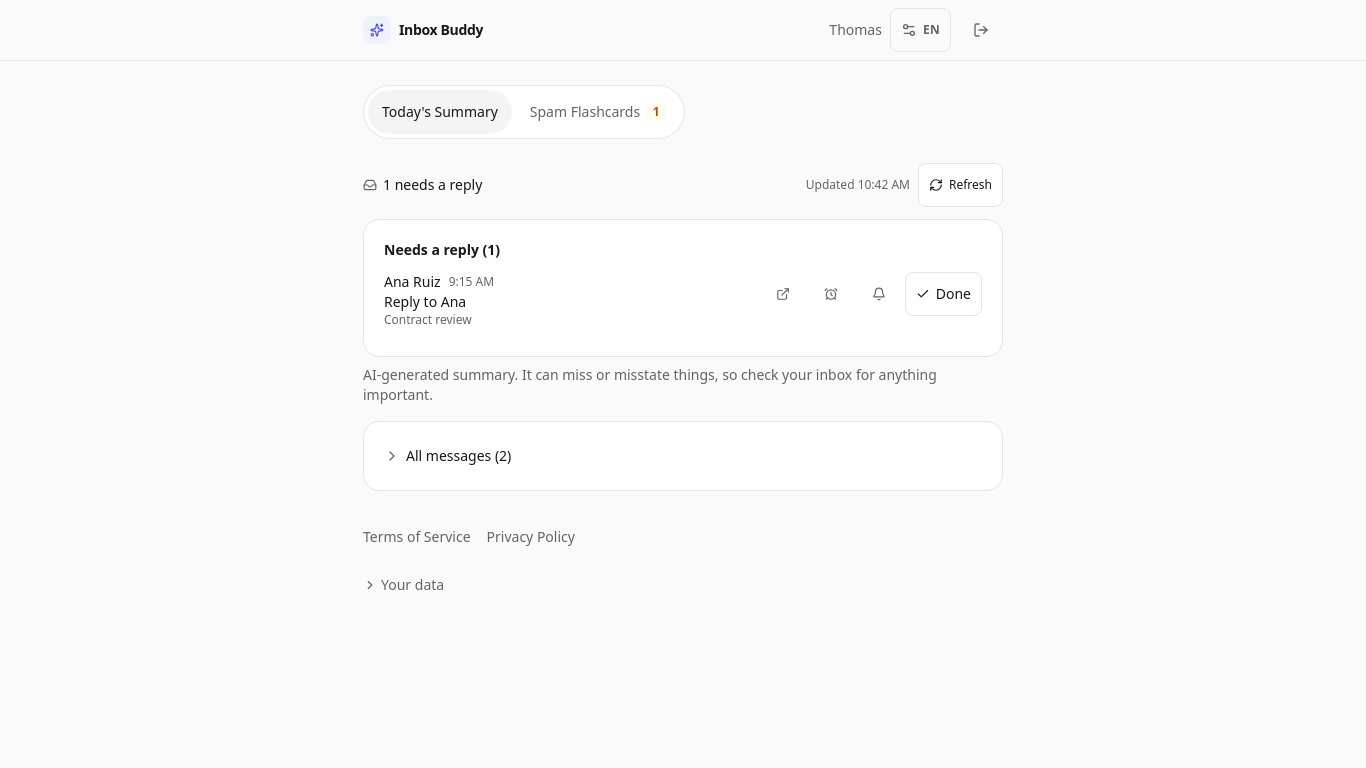
Dashboard › summary tab › Snooze and Remind me › Snooze hides the item until the chosen time, changes nothing in Gmail, and Undo brings it back
The width and height of the screenshot is (1366, 768).
Click the button named "Snooze “Contract review”".
click(831, 294)  # box [809,272,853,316]
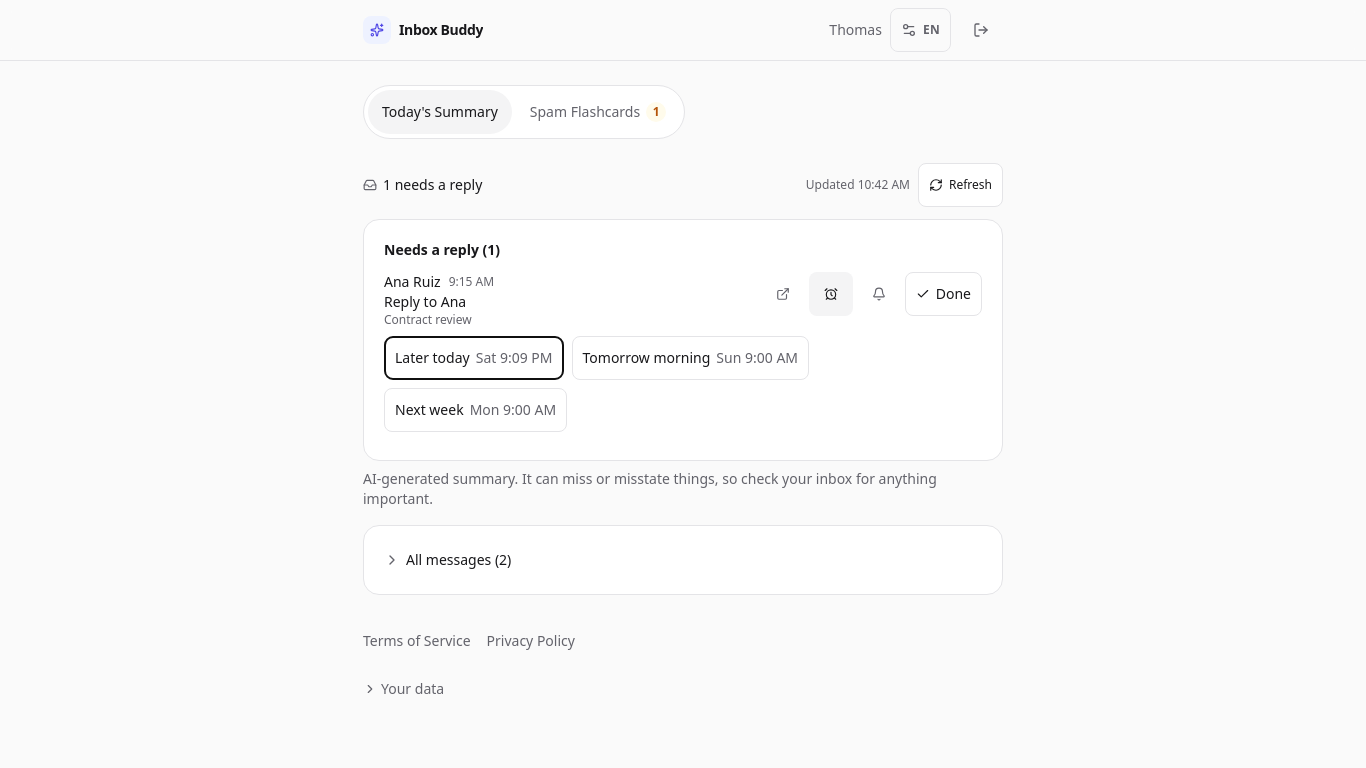
Check: the button named "Snooze “Contract review”" is expanded, box [809,272,853,316]
Click the button "Tomorrow morning Sun 9:00 AM".
click(690, 358)  # box [572,336,809,380]
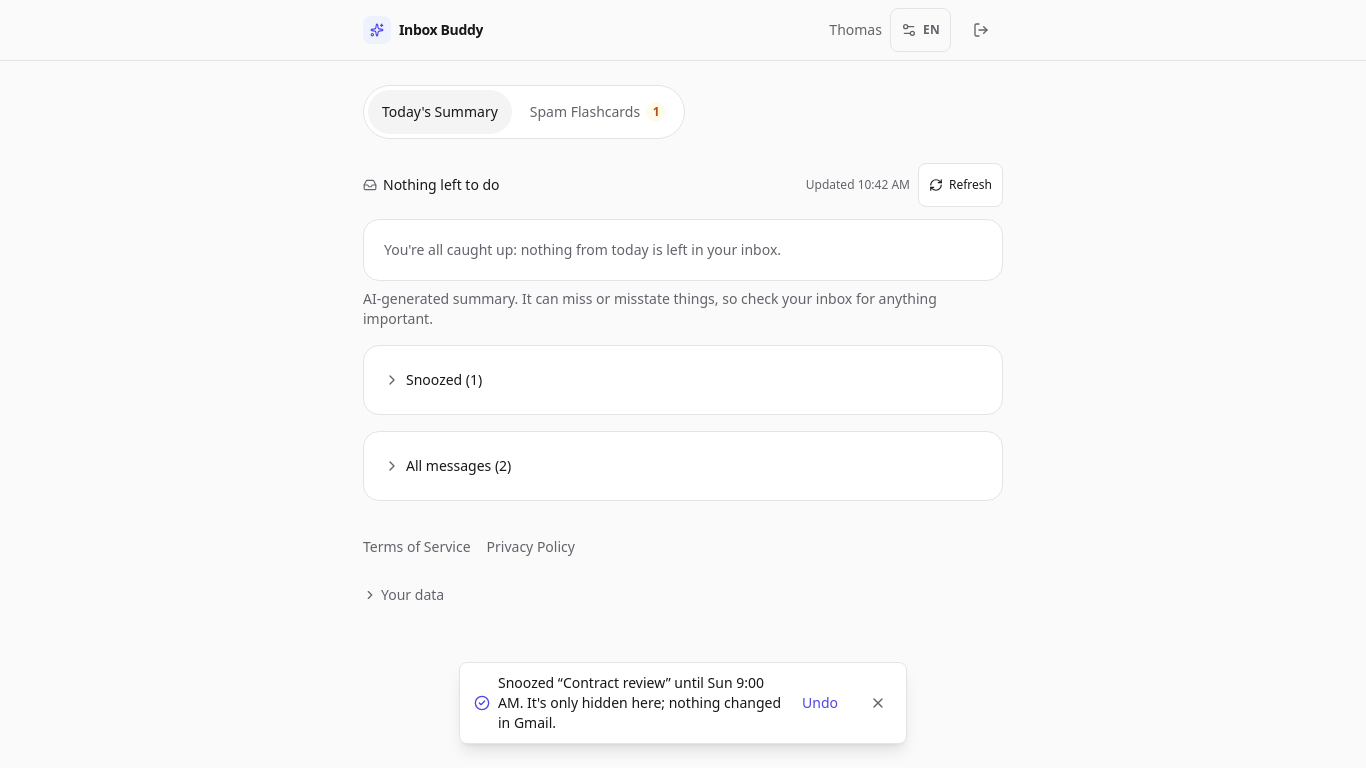
Check: the text "Reply to Ana" is gone
Check: the text "Nothing left to do" is shown, box [383,175,500,195]
Check: the heading "Snoozed (1)" is shown, box [384,370,482,389]
Click the button "Undo".
click(820, 703)  # box [792,681,848,725]
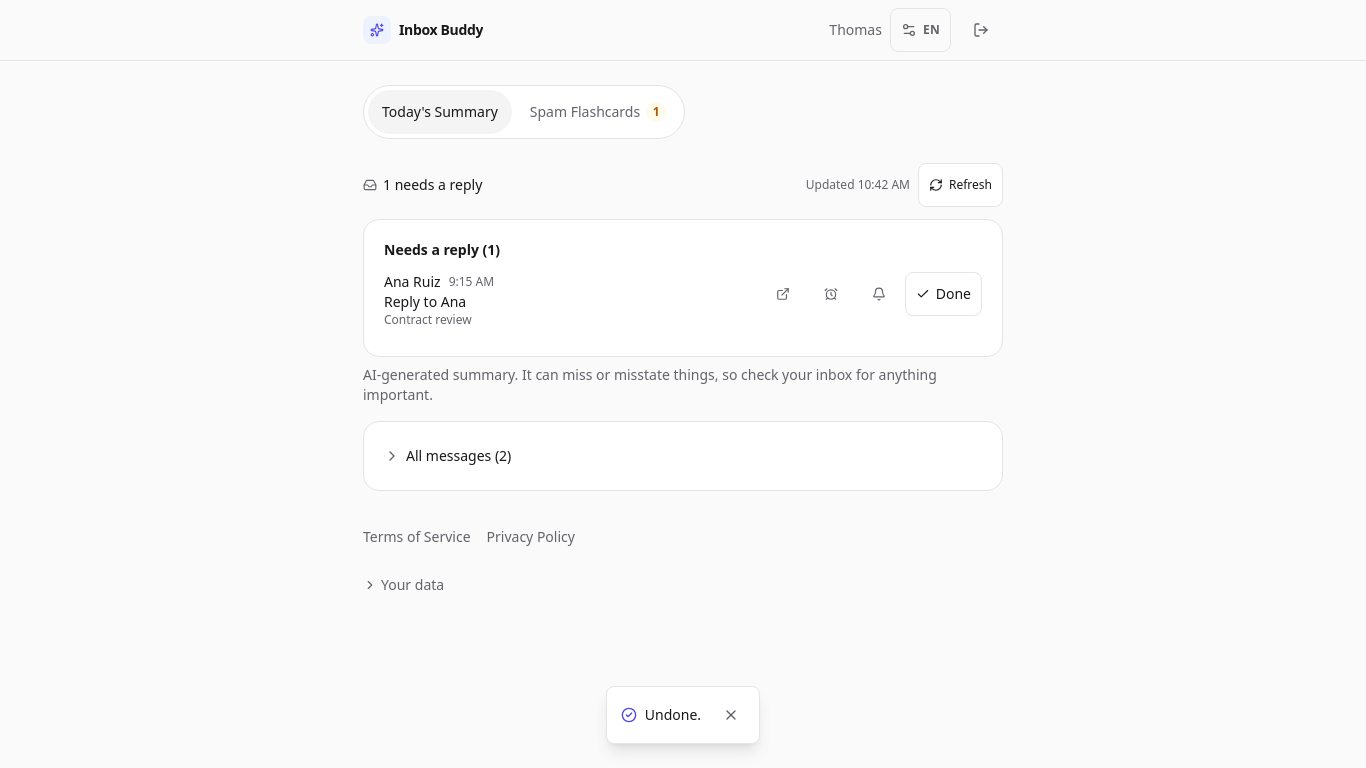
Check: the text "Reply to Ana" is shown, box [384,292,466,311]
